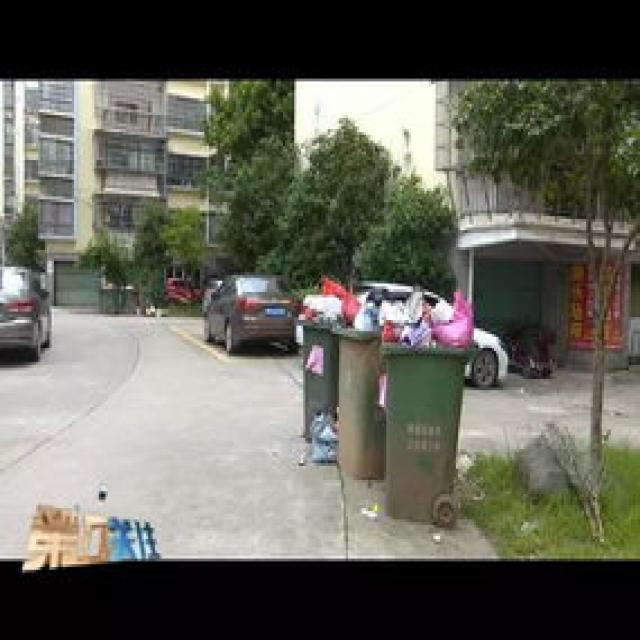garbage: (306, 404, 334, 460)
overflow: (375, 284, 474, 520), (328, 286, 384, 474), (292, 275, 337, 438)
